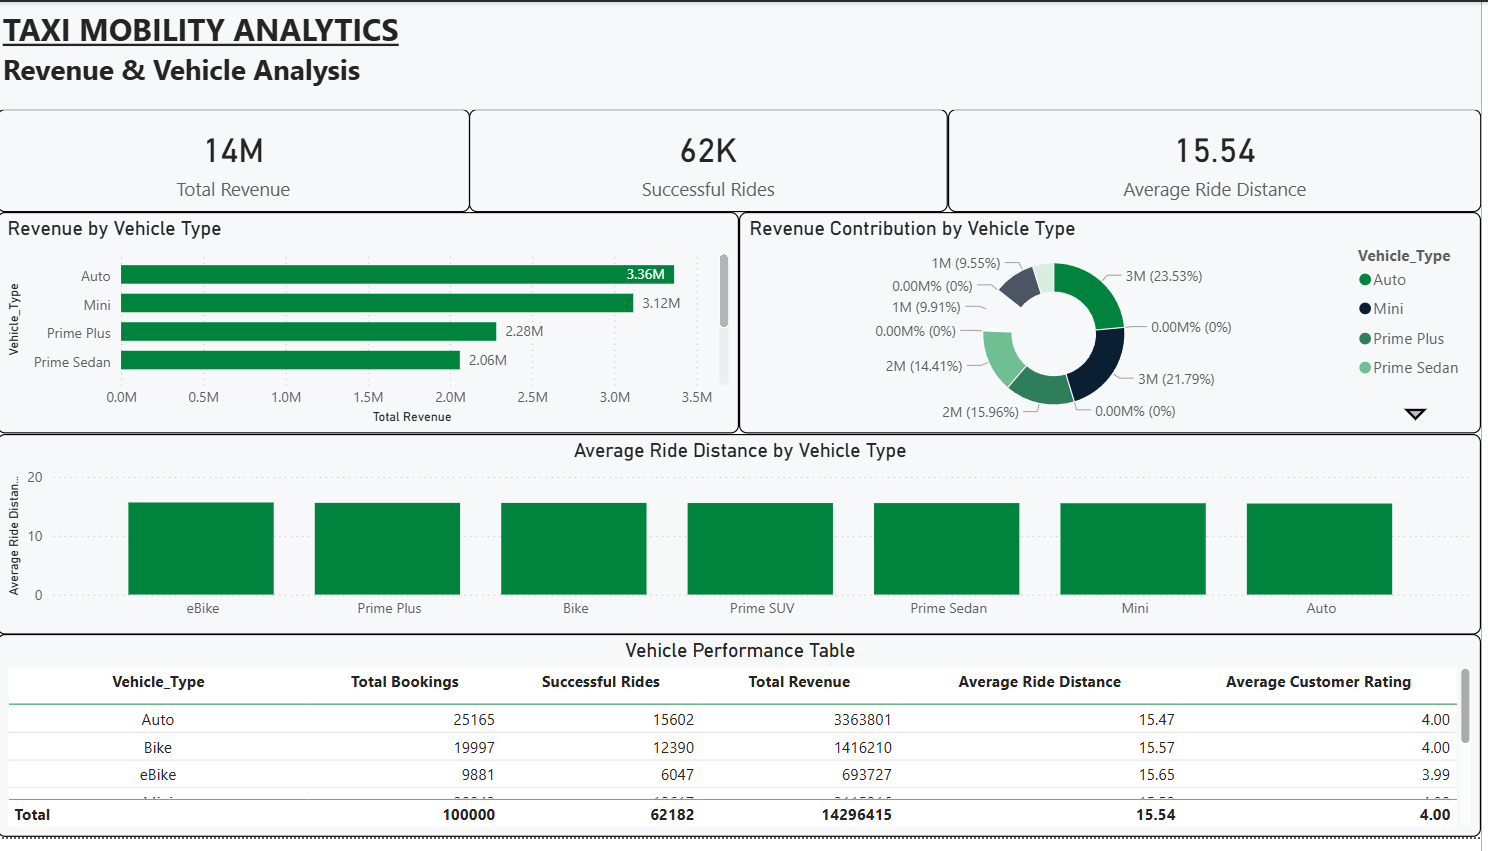

Layout of this report page (visuals, bound fields, positions):
{"tool":"powerbi","page":{"name":"Revenue & Vehicle Analysis","canvas":[1280,720],"ordinal":1},"visuals":[{"type":"card","fields":{"Values":["bookings.Total Revenue"]},"box":[0,92.5,407.5,88.8],"z":0},{"type":"card","fields":{"Values":["bookings.Successful Rides"]},"box":[407.5,92.5,412.5,88.8],"z":1000},{"type":"card","fields":{"Values":["bookings.Average Ride Distance"]},"box":[820,92.5,460,88.8],"z":2000},{"type":"clusteredBarChart","title":"Revenue by Vehicle Type","fields":{"Category":["bookings.Vehicle_Type"],"Y":["bookings.Total Revenue"]},"box":[0,181.2,640,191.2],"z":3000},{"type":"donutChart","title":"Revenue Contribution by Vehicle Type","fields":{"Category":["bookings.Vehicle_Type"],"Y":["bookings.Total Revenue","bookings.Revenue Contribution %"]},"box":[640,181.2,640,191.2],"z":4000},{"type":"columnChart","title":"Average Ride Distance by Vehicle Type","fields":{"Category":["bookings.Vehicle_Type"],"Y":["bookings.Average Ride Distance"]},"box":[0,372.5,1280,172.5],"z":5000},{"type":"tableEx","title":"Vehicle Performance Table","fields":{"Values":["bookings.Vehicle_Type","bookings.Total Bookings","bookings.Successful Rides","bookings.Total Revenue","bookings.Average Ride Distance","bookings.Average Customer Rating"]},"box":[0,545,1280,175],"z":6000},{"type":"textbox","box":[0,0,1280,92.5],"z":7000}]}

Visuals, with their boxes in screenshot pixels (x1, y1, x2, y2), scaled from the page's 1280x720 canvas onto the 1488x851 screenshot:
card - bookings.Total Revenue: (x1=0, y1=109, x2=474, y2=214)
card - bookings.Successful Rides: (x1=474, y1=109, x2=953, y2=214)
card - bookings.Average Ride Distance: (x1=953, y1=109, x2=1487, y2=214)
"Revenue by Vehicle Type" clusteredBarChart: (x1=0, y1=214, x2=744, y2=440)
"Revenue Contribution by Vehicle Type" donutChart: (x1=744, y1=214, x2=1487, y2=440)
"Average Ride Distance by Vehicle Type" columnChart: (x1=0, y1=440, x2=1487, y2=644)
"Vehicle Performance Table" tableEx: (x1=0, y1=644, x2=1487, y2=850)
textbox: (x1=0, y1=0, x2=1487, y2=109)
